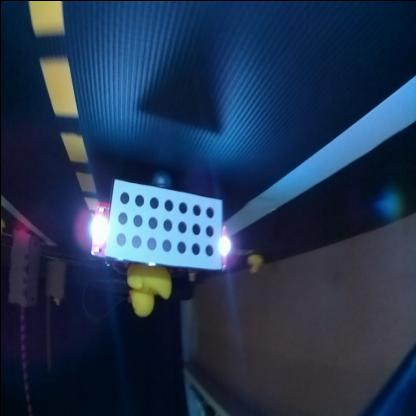Duckie: (126, 264, 168, 314), (247, 255, 258, 273)
Duckiebot: (89, 172, 229, 320)
